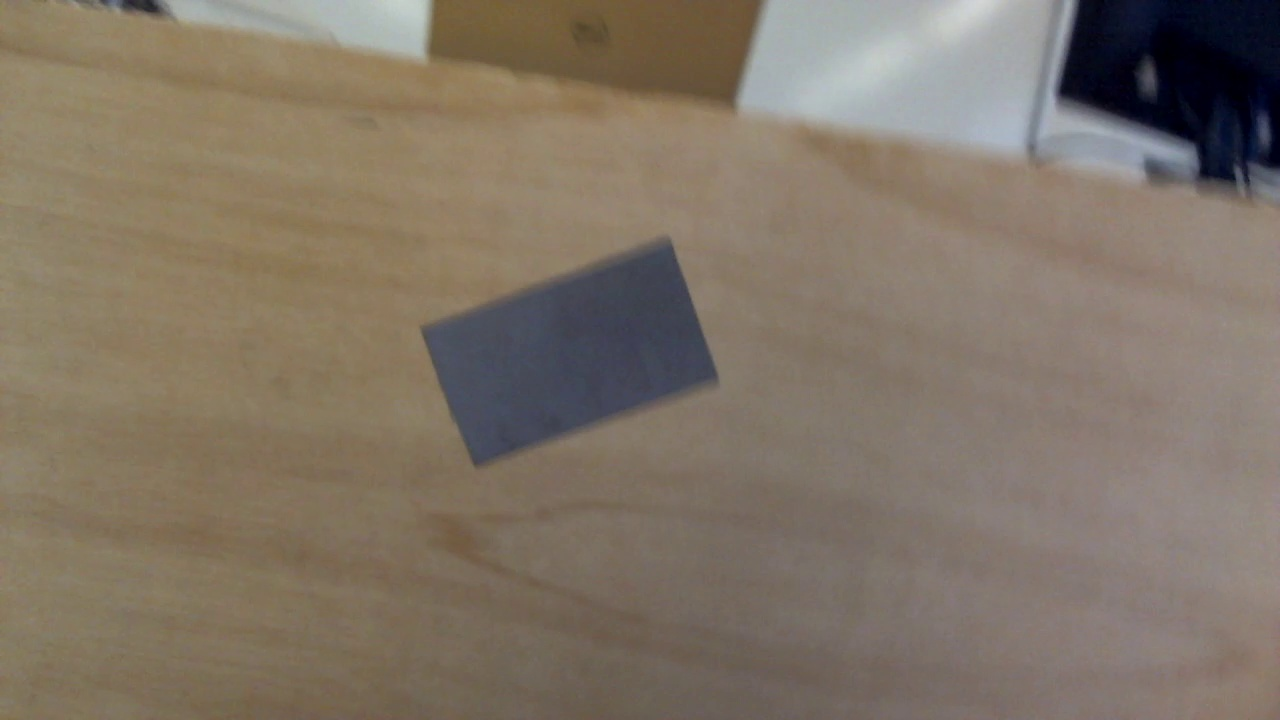Tape: (420, 241, 721, 468)
